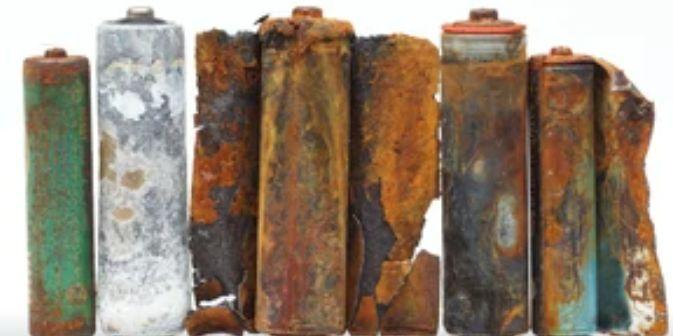battery: (191, 0, 440, 336), (531, 42, 673, 336), (94, 3, 191, 336), (439, 0, 532, 336), (18, 44, 97, 336)
